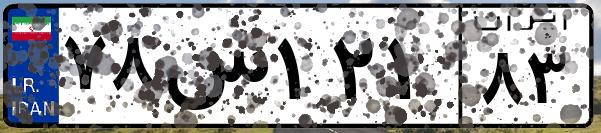1: (270, 28, 330, 110), (385, 28, 445, 110)
2: (330, 28, 385, 110)
3: (525, 38, 570, 115)
7: (57, 26, 110, 100)
8: (475, 38, 525, 113), (110, 28, 158, 98)
س: (158, 20, 270, 120)
